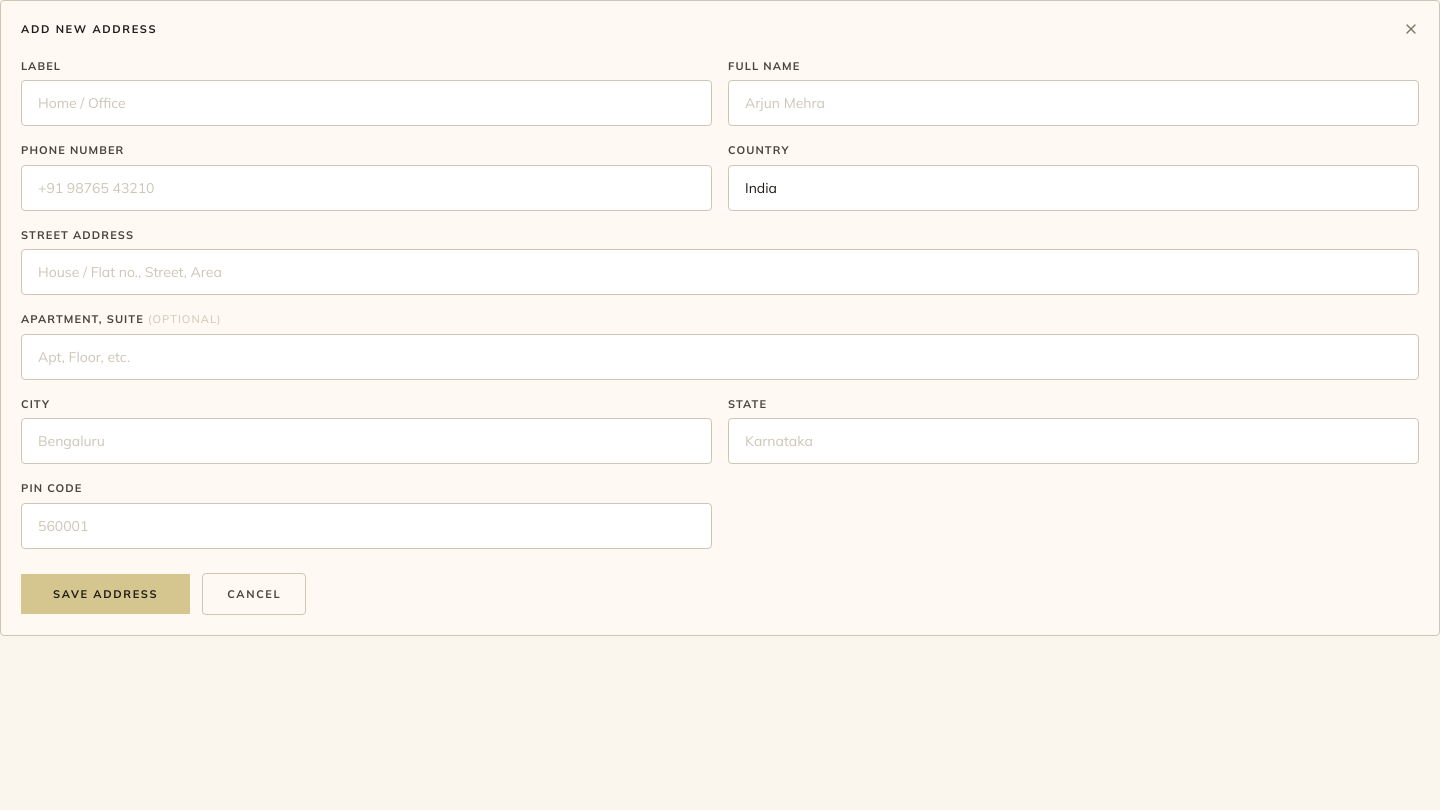
Test case: AddressForm › shows required field errors on empty submit
The image size is (1440, 810).
Click the button with test id "address-form-submit".
click(106, 594)  # box [21, 574, 190, 614]
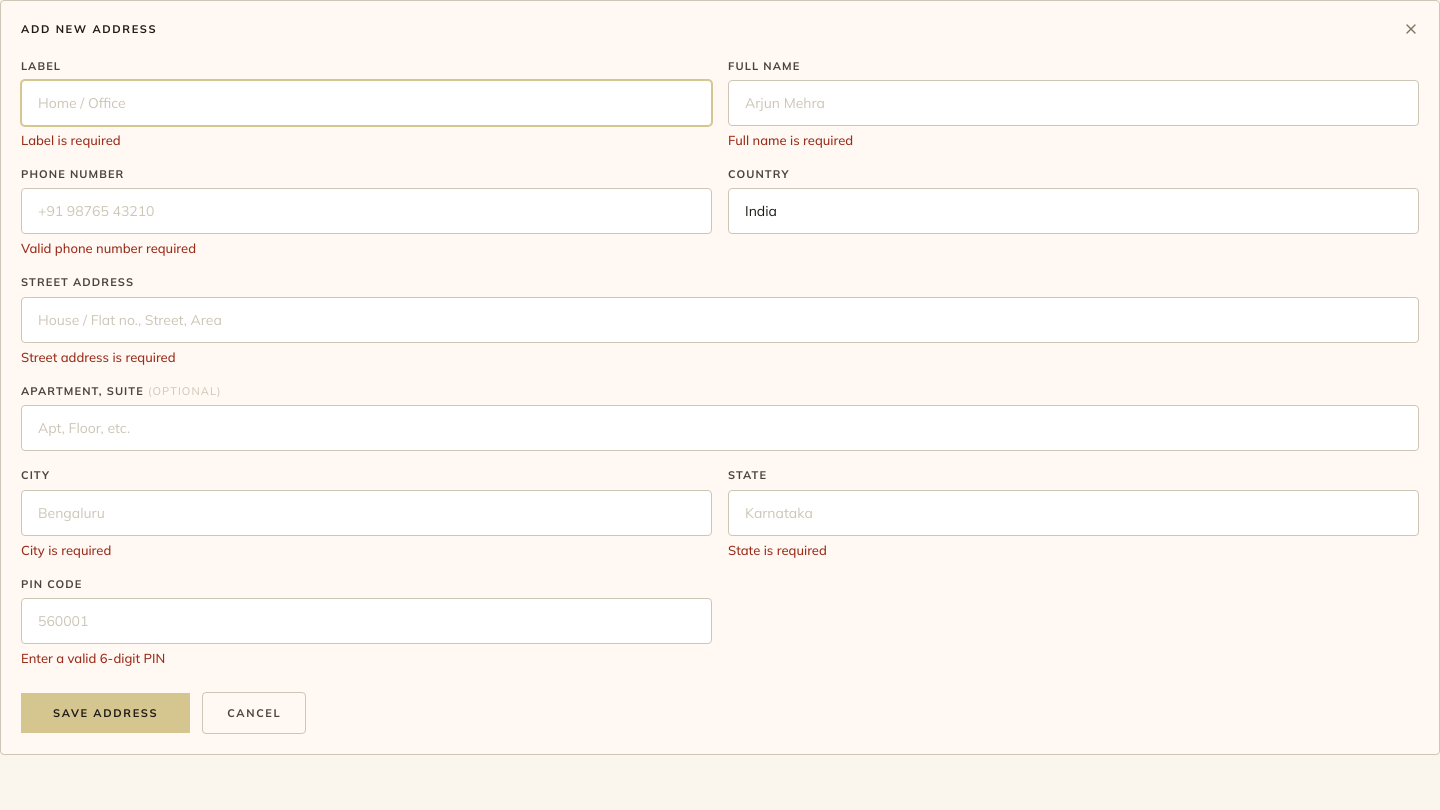
Expected: the text "Label is required" is shown, [21, 132, 121, 148]
Expected: the text "Full name is required" is shown, [728, 132, 853, 148]
Expected: the text "Street address is required" is shown, [21, 349, 176, 365]
